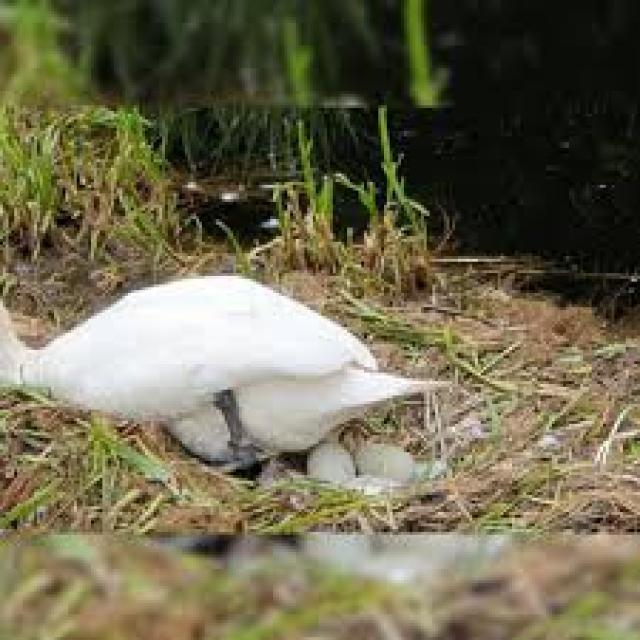swan: (0, 279, 444, 466)
